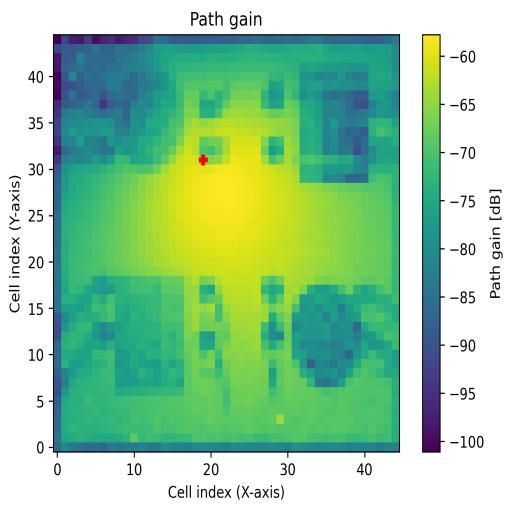Concrete: (300, 64, 369, 182)
Glass: (116, 66, 183, 165)
Metal: (291, 285, 369, 388)
Wood: (114, 276, 184, 398)
